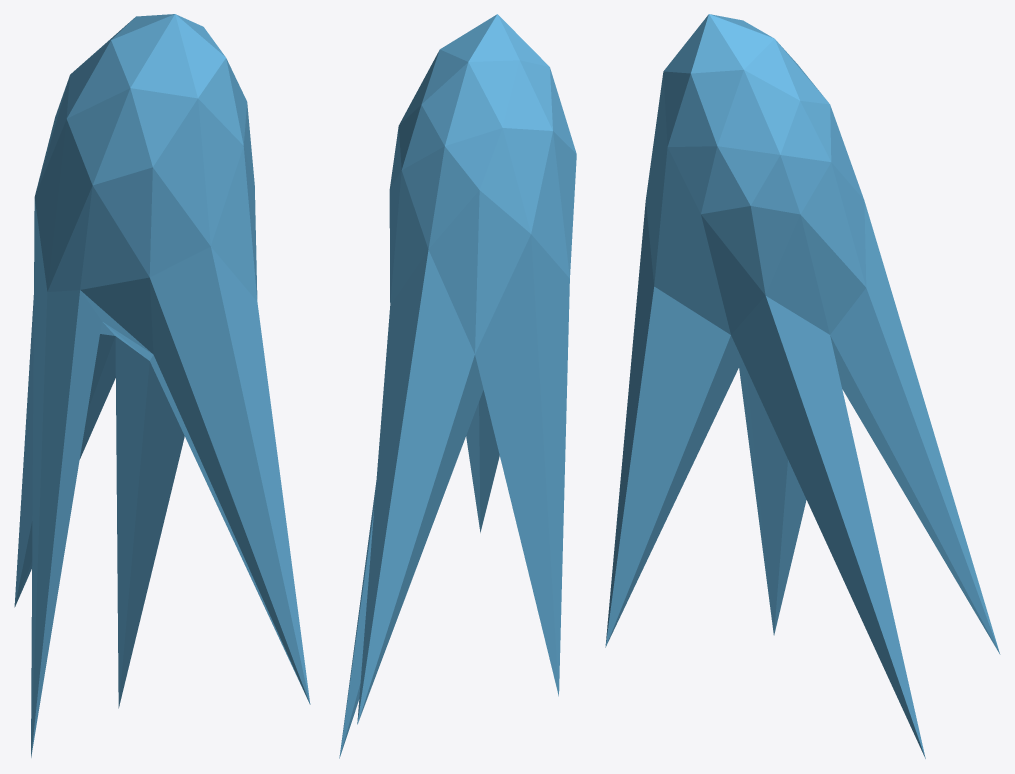
The model's file is IceProjectile.fbx.
The picture shows the model from 3 angles, left to right: view 1: azimuth 30°, elevation 25°; view 2: azimuth 150°, elevation 25°; view 3: azimuth 270°, elevation 25°; orthographic projection. The views are drawn at different scales.
Visible parts, largest first — view 1: Icosphere; view 2: Icosphere; view 3: Icosphere.
Part boxes in pixels (<box>): Icosphere: <box>14,14,310,757</box>; Icosphere: <box>339,14,576,758</box>; Icosphere: <box>605,14,1000,758</box>.
Bounding box in the file's own units: 206 × 795 × 397.
